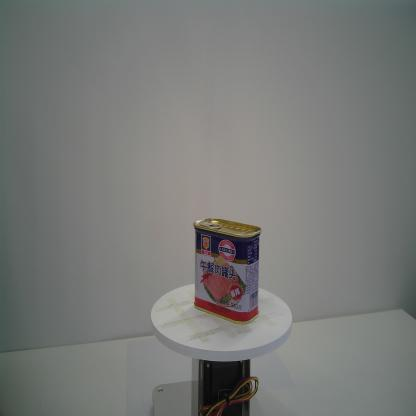Canned Food: (193, 218, 262, 324)
